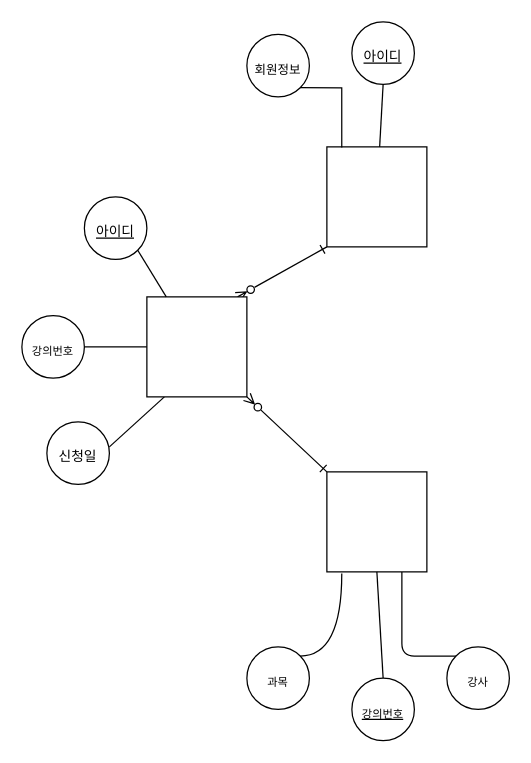
Image size: 531x763. Some labels were removed from this diagram. Here are the shapes that lost their labels. From the top down, the centre of each, then its label:
At point (376, 196): "회원".
At point (196, 346): "수강 신청".
At point (376, 521): "강의".
